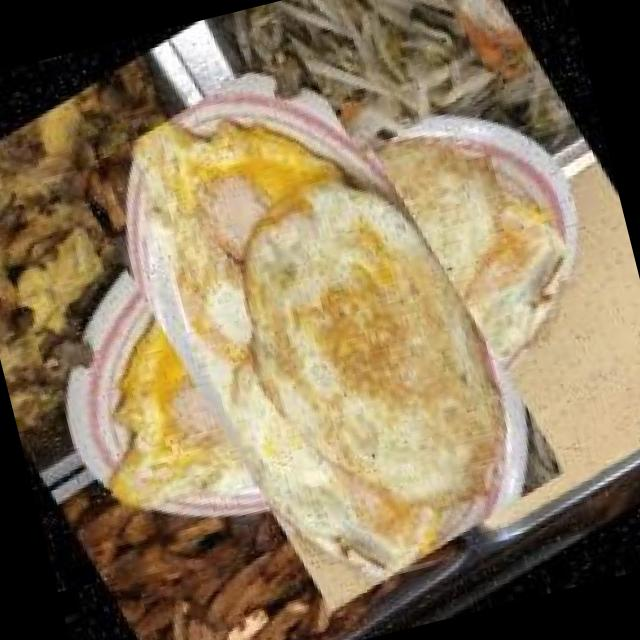fried_eggs: (24, 29, 613, 620)
mung_bean_sprouts: (242, 0, 515, 160)
